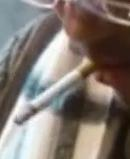smoke: (12, 55, 102, 125)
